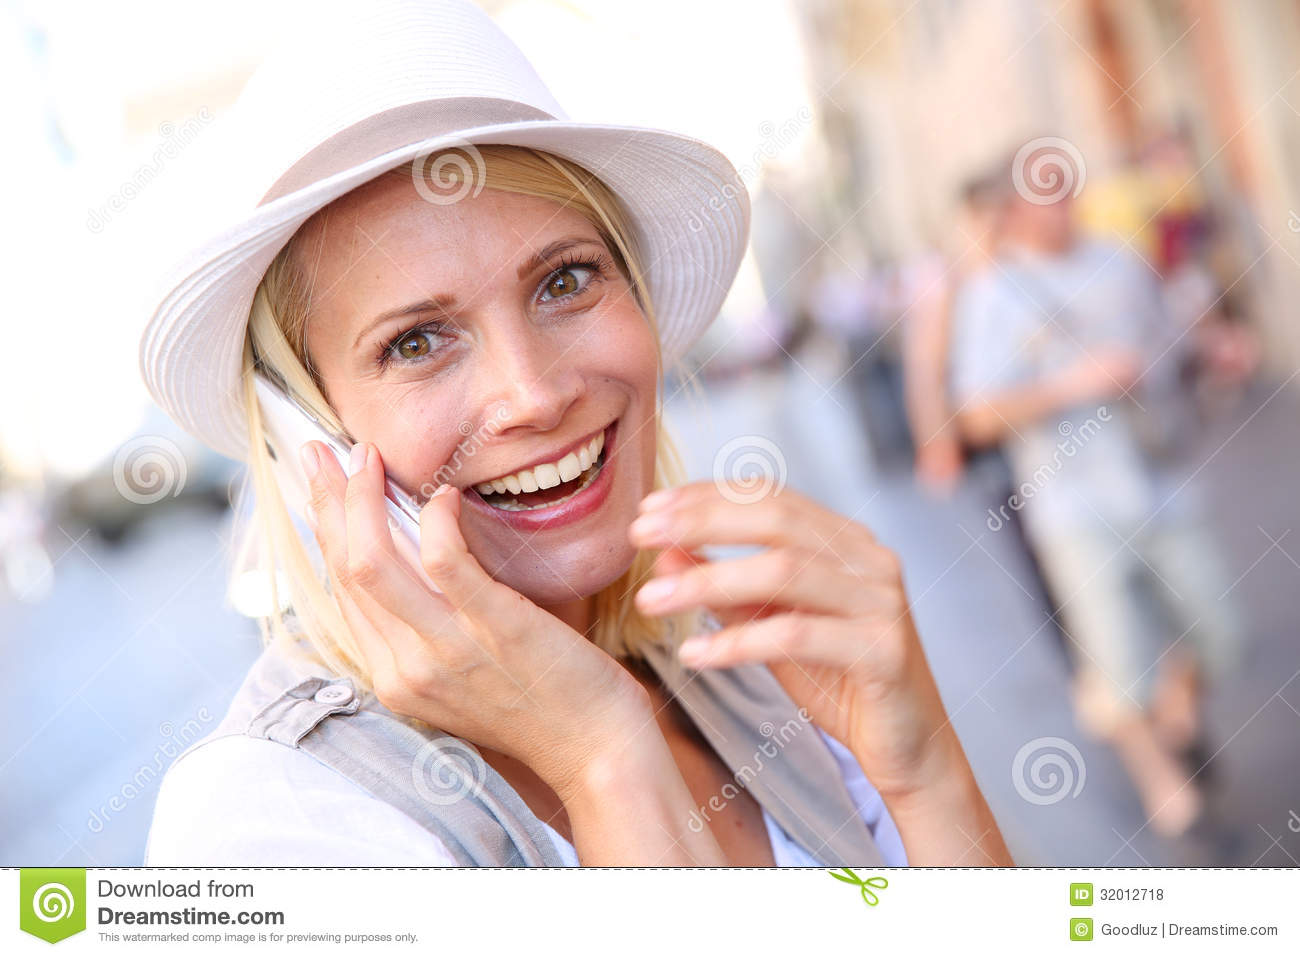phone: (242, 367, 461, 621)
talk: (241, 223, 657, 821)
